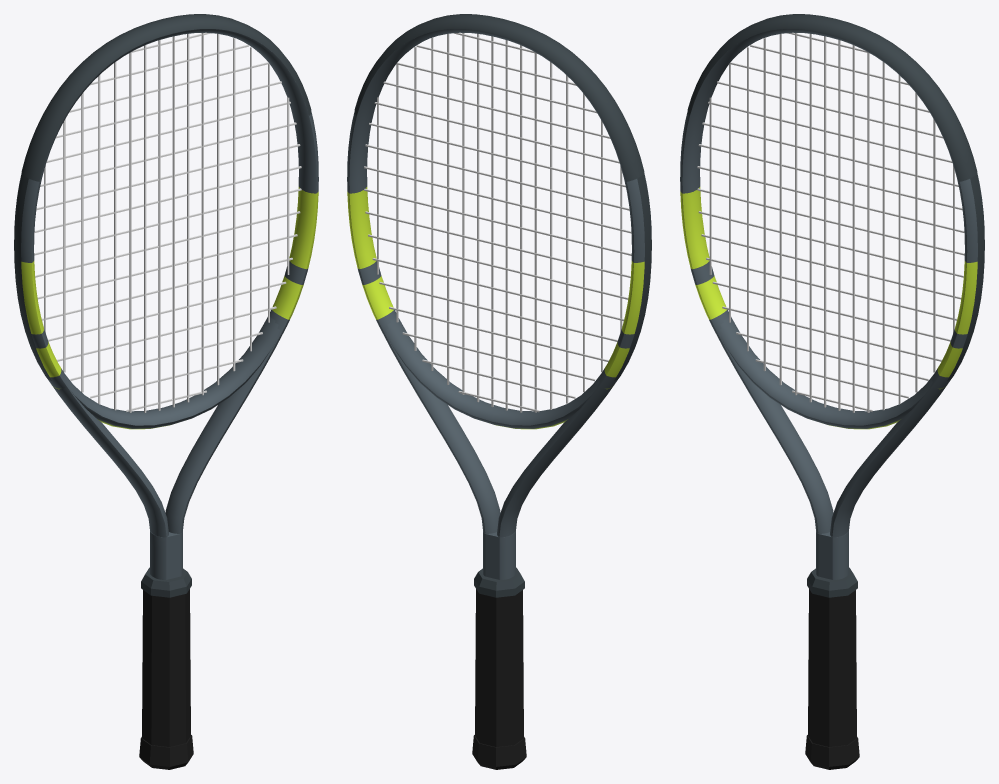
The model's file is babolat-pure-aero-junior-25-2026.glb.
3 views of the same model, side by side, from view 1: azimuth 30°, elevation 25°; view 2: azimuth 150°, elevation 25°; view 3: azimuth 330°, elevation 25° (orthographic).
Parts seen in each view (by area): view 1: frame, strings_mains, strings_crosses, grip, bumper, grommets, butt_cap, collar; view 2: frame, strings_mains, strings_crosses, grip, bumper, grommets, butt_cap, collar; view 3: frame, strings_mains, strings_crosses, grip, bumper, grommets, butt_cap, collar.
Boxes of the visible parts, bbox=[...] form: frame: bbox=[14, 29, 318, 579]; strings_mains: bbox=[44, 33, 289, 412]; strings_crosses: bbox=[34, 32, 301, 411]; grip: bbox=[142, 589, 190, 746]; bumper: bbox=[21, 14, 311, 181]; grommets: bbox=[14, 174, 51, 380]; butt_cap: bbox=[139, 735, 193, 769]; collar: bbox=[141, 567, 191, 597]; frame: bbox=[347, 29, 651, 579]; strings_mains: bbox=[377, 33, 622, 412]; strings_crosses: bbox=[364, 33, 631, 412]; grip: bbox=[475, 589, 523, 746]; bumper: bbox=[354, 14, 644, 181]; grommets: bbox=[614, 174, 651, 380]; butt_cap: bbox=[472, 735, 526, 769]; collar: bbox=[474, 567, 524, 597]; frame: bbox=[680, 29, 984, 579]; strings_mains: bbox=[709, 33, 954, 412]; strings_crosses: bbox=[697, 32, 964, 411]; grip: bbox=[808, 589, 856, 746]; bumper: bbox=[687, 14, 977, 181]; grommets: bbox=[947, 174, 984, 380]; butt_cap: bbox=[805, 735, 859, 769]; collar: bbox=[807, 567, 857, 597].
Bounding box in the file's own units: 0.2693 × 0.6353 × 0.0396.
